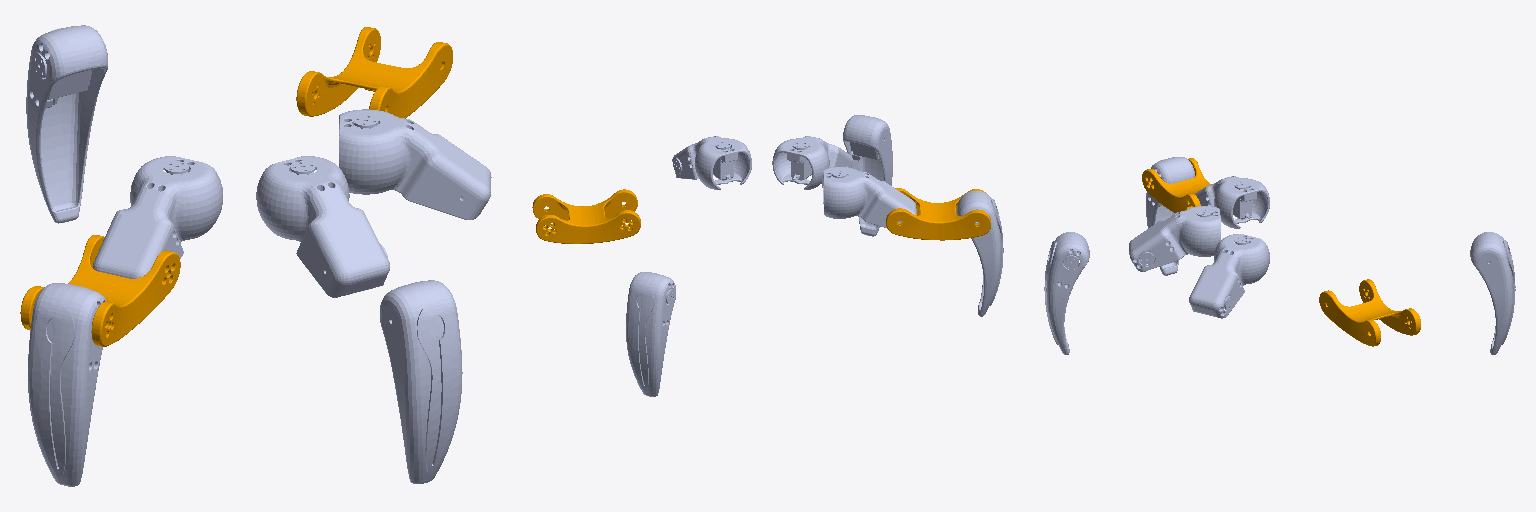
URDF robot description (Spider_Assembly_fineMesh):
<?xml version="1.0" encoding="utf-8"?>
<!-- This URDF was automatically created by SolidWorks to URDF Exporter! Originally created by [author] ([email redacted]) 
     Commit Version: 1.6.0-4-g7f85cfe  Build Version: 1.6.7995.38578
     For more information, please see http://wiki.ros.org/sw_urdf_exporter -->
<robot
  name="Spider_Assembly_fineMesh">
  <link
    name="base">
    <inertial>
      <origin
        xyz="-1.2244E-08 1.2927E-08 -0.021795"
        rpy="0 0 0" />
      <mass
        value="1.5" />
      <inertia
        ixx="0.002302"
        ixy="-4.563E-10"
        ixz="-1.0633E-10"
        iyy="0.002302"
        iyz="3.0883E-10"
        izz="0.0042233" />
    </inertial>
    <visual>
      <origin
        xyz="0 0 0"
        rpy="0 0 0" />
      <geometry>
        <mesh
          filename="package://Spider_Assembly_fineMesh/meshes/base.STL" />
      </geometry>
      <material
        name="">
        <color
          rgba="0.79216 0.81961 0.93333 1" />
      </material>
    </visual>
    <collision>
      <origin
        xyz="0 0 0"
        rpy="0 0 0" />
      <geometry>
        <mesh
          filename="package://Spider_Assembly_fineMesh/meshes/base.STL" />
      </geometry>
    </collision>
  </link>
  <link
    name="coxa1">
    <inertial>
      <origin
        xyz="0.00066313 0.03521 -0.033151"
        rpy="0 0 0" />
      <mass
        value="0.18" />
      <inertia
        ixx="9.5472E-05"
        ixy="-1.9634E-06"
        ixz="8.7252E-07"
        iyy="4.9485E-05"
        iyz="2.1567E-05"
        izz="9.9667E-05" />
    </inertial>
    <visual>
      <origin
        xyz="0 0 0"
        rpy="0 0 0" />
      <geometry>
        <mesh
          filename="package://Spider_Assembly_fineMesh/meshes/coxa1.STL" />
      </geometry>
      <material
        name="">
        <color
          rgba="0.79216 0.81961 0.93333 1" />
      </material>
    </visual>
    <collision>
      <origin
        xyz="0 0 0"
        rpy="0 0 0" />
      <geometry>
        <mesh
          filename="package://Spider_Assembly_fineMesh/meshes/coxa1.STL" />
      </geometry>
    </collision>
  </link>
  <joint
    name="base_to_coxa1"
    type="revolute">
    <origin
      xyz="0 0.1 -0.0229"
      rpy="0 0 0" />
    <parent
      link="base" />
    <child
      link="coxa1" />
    <axis
      xyz="0 0 1" />
    <limit
      lower="-1.0472"
      upper="1.0472"
      effort="10"
      velocity="5" />
  </joint>
  <link
    name="femur1">
    <inertial>
      <origin
        xyz="-0.0009176 -0.049861 -0.0049066"
        rpy="0 0 0" />
      <mass
        value="0.06" />
      <inertia
        ixx="8.6552E-05"
        ixy="-1.0528E-08"
        ixz="2.4849E-07"
        iyy="4.8375E-05"
        iyz="-2.6157E-06"
        izz="0.00012439" />
    </inertial>
    <visual>
      <origin
        xyz="0 0 0"
        rpy="0 0 0" />
      <geometry>
        <mesh
          filename="package://Spider_Assembly_fineMesh/meshes/femur1.STL" />
      </geometry>
      <material
        name="">
        <color
          rgba="1 0.67059 0 1" />
      </material>
    </visual>
    <collision>
      <origin
        xyz="0 0 0"
        rpy="0 0 0" />
      <geometry>
        <mesh
          filename="package://Spider_Assembly_fineMesh/meshes/femur1.STL" />
      </geometry>
    </collision>
  </link>
  <joint
    name="coxa1_to_femur1"
    type="revolute">
    <origin
      xyz="0.00095743 0.076318 -0.055226"
      rpy="0 0 3.129" />
    <parent
      link="coxa1" />
    <child
      link="femur1" />
    <axis
      xyz="1 0 0" />
    <limit
      lower="-1.5708"
      upper="2.0944"
      effort="10"
      velocity="5" />
  </joint>
  <link
    name="tibia1">
    <inertial>
      <origin
        xyz="0.00042461 -0.013369 -0.034865"
        rpy="0 0 0" />
      <mass
        value="0.11" />
      <inertia
        ixx="0.00014528"
        ixy="3.0075E-09"
        ixz="-2.855E-06"
        iyy="0.00014943"
        iyz="-1.5895E-05"
        izz="3.0404E-05" />
    </inertial>
    <visual>
      <origin
        xyz="0 0 0"
        rpy="0 0 0" />
      <geometry>
        <mesh
          filename="package://Spider_Assembly_fineMesh/meshes/tibia1.STL" />
      </geometry>
      <material
        name="">
        <color
          rgba="0.79216 0.81961 0.93333 1" />
      </material>
    </visual>
    <collision>
      <origin
        xyz="0 0 0"
        rpy="0 0 0" />
      <geometry>
        <mesh
          filename="package://Spider_Assembly_fineMesh/meshes/tibia1.STL" />
      </geometry>
    </collision>
  </link>
  <joint
    name="femur1_to_tibia1"
    type="revolute">
    <origin
      xyz="0 -0.099941 -0.0034349"
      rpy="0 0 0" />
    <parent
      link="femur1" />
    <child
      link="tibia1" />
    <axis
      xyz="1 0 0" />
    <limit
      lower="-2.0944"
      upper="1.0472"
      effort="10"
      velocity="5" />
  </joint>
  <link
    name="coxa2">
    <inertial>
      <origin
        xyz="-0.029531 0.019185 -0.033151"
        rpy="0 0 0" />
      <mass
        value="0.18" />
      <inertia
        ixx="6.4112E-05"
        ixy="2.1508E-05"
        ixz="-1.7843E-05"
        iyy="8.0846E-05"
        iyz="1.2147E-05"
        izz="9.9669E-05" />
    </inertial>
    <visual>
      <origin
        xyz="0 0 0"
        rpy="0 0 0" />
      <geometry>
        <mesh
          filename="package://Spider_Assembly_fineMesh/meshes/coxa2.STL" />
      </geometry>
      <material
        name="">
        <color
          rgba="0.79216 0.81961 0.93333 1" />
      </material>
    </visual>
    <collision>
      <origin
        xyz="0 0 0"
        rpy="0 0 0" />
      <geometry>
        <mesh
          filename="package://Spider_Assembly_fineMesh/meshes/coxa2.STL" />
      </geometry>
    </collision>
  </link>
  <joint
    name="base_to_coxa2"
    type="revolute">
    <origin
      xyz="-0.086603 0.050001 -0.0229"
      rpy="0 0 0" />
    <parent
      link="base" />
    <child
      link="coxa2" />
    <axis
      xyz="0 0 1" />
    <limit
      lower="-1.0472"
      upper="1.0472"
      effort="10"
      velocity="5" />
  </joint>
  <link
    name="femur2">
    <inertial>
      <origin
        xyz="-0.0009176 -0.049861 -0.0049067"
        rpy="0 0 0" />
      <mass
        value="0.06" />
      <inertia
        ixx="8.6552E-05"
        ixy="-1.0306E-08"
        ixz="2.485E-07"
        iyy="4.8375E-05"
        iyz="-2.6157E-06"
        izz="0.00012439" />
    </inertial>
    <visual>
      <origin
        xyz="0 0 0"
        rpy="0 0 0" />
      <geometry>
        <mesh
          filename="package://Spider_Assembly_fineMesh/meshes/femur2.STL" />
      </geometry>
      <material
        name="">
        <color
          rgba="1 0.67059 0 1" />
      </material>
    </visual>
    <collision>
      <origin
        xyz="0 0 0"
        rpy="0 0 0" />
      <geometry>
        <mesh
          filename="package://Spider_Assembly_fineMesh/meshes/femur2.STL" />
      </geometry>
    </collision>
  </link>
  <joint
    name="coxa2_to_femur2"
    type="revolute">
    <origin
      xyz="-0.064264 0.041176 -0.055226"
      rpy="0 0 -2.1406" />
    <parent
      link="coxa2" />
    <child
      link="femur2" />
    <axis
      xyz="1 0 0" />
    <limit
      lower="-1.5708"
      upper="2.0944"
      effort="10"
      velocity="5" />
  </joint>
  <link
    name="tibia2">
    <inertial>
      <origin
        xyz="0.00042461 -0.013369 -0.034865"
        rpy="0 0 0" />
      <mass
        value="0.11" />
      <inertia
        ixx="0.00014528"
        ixy="3.2722E-09"
        ixz="-2.856E-06"
        iyy="0.00014944"
        iyz="-1.5895E-05"
        izz="3.0403E-05" />
    </inertial>
    <visual>
      <origin
        xyz="0 0 0"
        rpy="0 0 0" />
      <geometry>
        <mesh
          filename="package://Spider_Assembly_fineMesh/meshes/tibia2.STL" />
      </geometry>
      <material
        name="">
        <color
          rgba="0.79216 0.81961 0.93333 1" />
      </material>
    </visual>
    <collision>
      <origin
        xyz="0 0 0"
        rpy="0 0 0" />
      <geometry>
        <mesh
          filename="package://Spider_Assembly_fineMesh/meshes/tibia2.STL" />
      </geometry>
    </collision>
  </link>
  <joint
    name="femur2_to_tibia2"
    type="revolute">
    <origin
      xyz="0 -0.099941 -0.0034349"
      rpy="0 0 0" />
    <parent
      link="femur2" />
    <child
      link="tibia2" />
    <axis
      xyz="1 0 0" />
    <limit
      lower="-2.0944"
      upper="1.0472"
      effort="10"
      velocity="5" />
  </joint>
  <link
    name="coxa3">
    <inertial>
      <origin
        xyz="-0.029972 -0.01849 -0.033151"
        rpy="0 0 0" />
      <mass
        value="0.18" />
      <inertia
        ixx="6.116E-05"
        ixy="-2.011E-05"
        ixz="-1.8614E-05"
        iyy="8.3807E-05"
        iyz="-1.0935E-05"
        izz="9.9672E-05" />
    </inertial>
    <visual>
      <origin
        xyz="0 0 0"
        rpy="0 0 0" />
      <geometry>
        <mesh
          filename="package://Spider_Assembly_fineMesh/meshes/coxa3.STL" />
      </geometry>
      <material
        name="">
        <color
          rgba="0.79216 0.81961 0.93333 1" />
      </material>
    </visual>
    <collision>
      <origin
        xyz="0 0 0"
        rpy="0 0 0" />
      <geometry>
        <mesh
          filename="package://Spider_Assembly_fineMesh/meshes/coxa3.STL" />
      </geometry>
    </collision>
  </link>
  <joint
    name="base_to_coxa3"
    type="revolute">
    <origin
      xyz="-0.0866040403784443 -0.0499991339745954 -0.0228999999999395"
      rpy="0 0 0" />
    <parent
      link="base" />
    <child
      link="coxa3" />
    <axis
      xyz="0 0 1" />
    <limit
      lower="-1.0472"
      upper="1.0472"
      effort="10"
      velocity="5" />
  </joint>
  <link
    name="femur3">
    <inertial>
      <origin
        xyz="-0.00091762 -0.049861 -0.0049049"
        rpy="0 0 0" />
      <mass
        value="0.06" />
      <inertia
        ixx="8.6552E-05"
        ixy="-1.0422E-08"
        ixz="2.4858E-07"
        iyy="4.8375E-05"
        iyz="-2.6155E-06"
        izz="0.00012439" />
    </inertial>
    <visual>
      <origin
        xyz="0 0 0"
        rpy="0 0 0" />
      <geometry>
        <mesh
          filename="package://Spider_Assembly_fineMesh/meshes/femur3.STL" />
      </geometry>
      <material
        name="">
        <color
          rgba="1 0.67059 0 1" />
      </material>
    </visual>
    <collision>
      <origin
        xyz="0 0 0"
        rpy="0 0 0" />
      <geometry>
        <mesh
          filename="package://Spider_Assembly_fineMesh/meshes/femur3.STL" />
      </geometry>
    </collision>
  </link>
  <joint
    name="coxa3_to_femur3"
    type="revolute">
    <origin
      xyz="-0.0647043722150724 -0.0404800288990548 -0.0552258257090417"
      rpy="0 0 -1.01175485233089" />
    <parent
      link="coxa3" />
    <child
      link="femur3" />
    <axis
      xyz="1 0 0" />
    <limit
      lower="-1.5708"
      upper="2.0944"
      effort="10"
      velocity="5" />
  </joint>
  <link
    name="tibia3">
    <inertial>
      <origin
        xyz="0.0004246 -0.013369 -0.034865"
        rpy="0 0 0" />
      <mass
        value="0.11" />
      <inertia
        ixx="0.00014528"
        ixy="2.9252E-09"
        ixz="-2.8551E-06"
        iyy="0.00014943"
        iyz="-1.5895E-05"
        izz="3.0403E-05" />
    </inertial>
    <visual>
      <origin
        xyz="0 0 0"
        rpy="0 0 0" />
      <geometry>
        <mesh
          filename="package://Spider_Assembly_fineMesh/meshes/tibia3.STL" />
      </geometry>
      <material
        name="">
        <color
          rgba="0.79216 0.81961 0.93333 1" />
      </material>
    </visual>
    <collision>
      <origin
        xyz="0 0 0"
        rpy="0 0 0" />
      <geometry>
        <mesh
          filename="package://Spider_Assembly_fineMesh/meshes/tibia3.STL" />
      </geometry>
    </collision>
  </link>
  <joint
    name="femur3_to_tibia3"
    type="revolute">
    <origin
      xyz="0 -0.099941 -0.0034349"
      rpy="0 0 0" />
    <parent
      link="femur3" />
    <child
      link="tibia3" />
    <axis
      xyz="1 0 0" />
    <limit
      lower="-2.0944"
      upper="1.0472"
      effort="10"
      velocity="5" />
  </joint>
  <link
    name="coxa4">
    <inertial>
      <origin
        xyz="0.00088599 -0.035205 -0.033151"
        rpy="0 0 0" />
      <mass
        value="0.18" />
      <inertia
        ixx="9.5561E-05"
        ixy="6.7233E-08"
        ixz="7.8148E-08"
        iyy="4.9405E-05"
        iyz="-2.1588E-05"
        izz="9.967E-05" />
    </inertial>
    <visual>
      <origin
        xyz="0 0 0"
        rpy="0 0 0" />
      <geometry>
        <mesh
          filename="package://Spider_Assembly_fineMesh/meshes/coxa4.STL" />
      </geometry>
      <material
        name="">
        <color
          rgba="0.79216 0.81961 0.93333 1" />
      </material>
    </visual>
    <collision>
      <origin
        xyz="0 0 0"
        rpy="0 0 0" />
      <geometry>
        <mesh
          filename="package://Spider_Assembly_fineMesh/meshes/coxa4.STL" />
      </geometry>
    </collision>
  </link>
  <joint
    name="base_to_coxa4"
    type="revolute">
    <origin
      xyz="0 -0.1 -0.0228999999999395"
      rpy="0 0 0" />
    <parent
      link="base" />
    <child
      link="coxa4" />
    <axis
      xyz="0 0 1" />
    <limit
      lower="-1.0472"
      upper="1.0472"
      effort="10"
      velocity="5" />
  </joint>
  <link
    name="femur4">
    <inertial>
      <origin
        xyz="0.00065147 -0.049865 -0.0049066"
        rpy="0 0 0" />
      <mass
        value="0.06" />
      <inertia
        ixx="8.6515E-05"
        ixy="1.1915E-06"
        ixz="3.3076E-07"
        iyy="4.8412E-05"
        iyz="-2.6066E-06"
        izz="0.00012439" />
    </inertial>
    <visual>
      <origin
        xyz="0 0 0"
        rpy="0 0 0" />
      <geometry>
        <mesh
          filename="package://Spider_Assembly_fineMesh/meshes/femur4.STL" />
      </geometry>
      <material
        name="">
        <color
          rgba="1 0.67059 0 1" />
      </material>
    </visual>
    <collision>
      <origin
        xyz="0 0 0"
        rpy="0 0 0" />
      <geometry>
        <mesh
          filename="package://Spider_Assembly_fineMesh/meshes/femur4.STL" />
      </geometry>
    </collision>
  </link>
  <joint
    name="coxa4_to_femur4"
    type="revolute">
    <origin
      xyz="0.00240418464234264 -0.0762856395586871 -0.0552258257090417"
      rpy="0 0 0" />
    <parent
      link="coxa4" />
    <child
      link="femur4" />
    <axis
      xyz="0.999503754376516 0.0314999204324345 0" />
    <limit
      lower="-1.5708"
      upper="2.0944"
      effort="10"
      velocity="5" />
  </joint>
  <link
    name="tibia4">
    <inertial>
      <origin
        xyz="0.00042261 -0.013369 -0.034865"
        rpy="0 0 0" />
      <mass
        value="0.11" />
      <inertia
        ixx="0.00014528"
        ixy="3.0099E-09"
        ixz="-2.855E-06"
        iyy="0.00014943"
        iyz="-1.5895E-05"
        izz="3.0404E-05" />
    </inertial>
    <visual>
      <origin
        xyz="0 0 0"
        rpy="0 0 0" />
      <geometry>
        <mesh
          filename="package://Spider_Assembly_fineMesh/meshes/tibia4.STL" />
      </geometry>
      <material
        name="">
        <color
          rgba="0.79216 0.81961 0.93333 1" />
      </material>
    </visual>
    <collision>
      <origin
        xyz="0 0 0"
        rpy="0 0 0" />
      <geometry>
        <mesh
          filename="package://Spider_Assembly_fineMesh/meshes/tibia4.STL" />
      </geometry>
    </collision>
  </link>
  <joint
    name="femur4_to_tibia4"
    type="revolute">
    <origin
      xyz="0.0031481 -0.099891 -0.0034349"
      rpy="0 0 0.031505" />
    <parent
      link="femur4" />
    <child
      link="tibia4" />
    <axis
      xyz="1 0 0" />
    <limit
      lower="-2.0944"
      upper="1.0472"
      effort="10"
      velocity="5" />
  </joint>
  <link
    name="coxa5">
    <inertial>
      <origin
        xyz="0.030128 -0.018234 -0.033151"
        rpy="0 0 0" />
      <mass
        value="0.18" />
      <inertia
        ixx="6.276E-05"
        ixy="2.0931E-05"
        ixz="1.8221E-05"
        iyy="8.2199E-05"
        iyz="-1.1573E-05"
        izz="9.9669E-05" />
    </inertial>
    <visual>
      <origin
        xyz="0 0 0"
        rpy="0 0 0" />
      <geometry>
        <mesh
          filename="package://Spider_Assembly_fineMesh/meshes/coxa5.STL" />
      </geometry>
      <material
        name="">
        <color
          rgba="0.79216 0.81961 0.93333 1" />
      </material>
    </visual>
    <collision>
      <origin
        xyz="0 0 0"
        rpy="0 0 0" />
      <geometry>
        <mesh
          filename="package://Spider_Assembly_fineMesh/meshes/coxa5.STL" />
      </geometry>
    </collision>
  </link>
  <joint
    name="base_to_coxa5"
    type="revolute">
    <origin
      xyz="0.0866010403784438 -0.0500008660254042 -0.0228999999999395"
      rpy="0 0 0" />
    <parent
      link="base" />
    <child
      link="coxa5" />
    <axis
      xyz="0 0 1" />
    <limit
      lower="-1.0472"
      upper="1.0472"
      effort="10"
      velocity="5" />
  </joint>
  <link
    name="femur5">
    <inertial>
      <origin
        xyz="-0.0009176 -0.049861 -0.0049067"
        rpy="0 0 0" />
      <mass
        value="0.06" />
      <inertia
        ixx="8.6552E-05"
        ixy="-1.0306E-08"
        ixz="2.485E-07"
        iyy="4.8375E-05"
        iyz="-2.6157E-06"
        izz="0.00012439" />
    </inertial>
    <visual>
      <origin
        xyz="0 0 0"
        rpy="0 0 0" />
      <geometry>
        <mesh
          filename="package://Spider_Assembly_fineMesh/meshes/femur5.STL" />
      </geometry>
      <material
        name="">
        <color
          rgba="1 0.67059 0 1" />
      </material>
    </visual>
    <collision>
      <origin
        xyz="0 0 0"
        rpy="0 0 0" />
      <geometry>
        <mesh
          filename="package://Spider_Assembly_fineMesh/meshes/femur5.STL" />
      </geometry>
    </collision>
  </link>
  <joint
    name="coxa5_to_femur5"
    type="revolute">
    <origin
      xyz="0.0655430603260938 -0.0391074899028941 -0.0552258257090417"
      rpy="0 0 1.03282994251623" />
    <parent
      link="coxa5" />
    <child
      link="femur5" />
    <axis
      xyz="1 0 0" />
    <limit
      lower="-1.5708"
      upper="2.0944"
      effort="10"
      velocity="5" />
  </joint>
  <link
    name="tibia5">
    <inertial>
      <origin
        xyz="0.00042461 -0.013369 -0.034865"
        rpy="0 0 0" />
      <mass
        value="0.11" />
      <inertia
        ixx="0.00014528"
        ixy="3.2734E-09"
        ixz="-2.856E-06"
        iyy="0.00014944"
        iyz="-1.5895E-05"
        izz="3.0403E-05" />
    </inertial>
    <visual>
      <origin
        xyz="0 0 0"
        rpy="0 0 0" />
      <geometry>
        <mesh
          filename="package://Spider_Assembly_fineMesh/meshes/tibia5.STL" />
      </geometry>
      <material
        name="">
        <color
          rgba="0.79216 0.81961 0.93333 1" />
      </material>
    </visual>
    <collision>
      <origin
        xyz="0 0 0"
        rpy="0 0 0" />
      <geometry>
        <mesh
          filename="package://Spider_Assembly_fineMesh/meshes/tibia5.STL" />
      </geometry>
    </collision>
  </link>
  <joint
    name="femur5_to_tibia5"
    type="revolute">
    <origin
      xyz="0 -0.099941 -0.0034349"
      rpy="0 0 0" />
    <parent
      link="femur5" />
    <child
      link="tibia5" />
    <axis
      xyz="1 0 0" />
    <limit
      lower="-2.0944"
      upper="1.0472"
      effort="10"
      velocity="5" />
  </joint>
  <link
    name="coxa6">
    <inertial>
      <origin
        xyz="0.029393 0.019396 -0.033151"
        rpy="0 0 0" />
      <mass
        value="0.18" />
      <inertia
        ixx="6.2409E-05"
        ixy="-2.0764E-05"
        ixz="1.8271E-05"
        iyy="8.2559E-05"
        iyz="1.1498E-05"
        izz="9.9672E-05" />
    </inertial>
    <visual>
      <origin
        xyz="0 0 0"
        rpy="0 0 0" />
      <geometry>
        <mesh
          filename="package://Spider_Assembly_fineMesh/meshes/coxa6.STL" />
      </geometry>
      <material
        name="">
        <color
          rgba="0.79216 0.81961 0.93333 1" />
      </material>
    </visual>
    <collision>
      <origin
        xyz="0 0 0"
        rpy="0 0 0" />
      <geometry>
        <mesh
          filename="package://Spider_Assembly_fineMesh/meshes/coxa6.STL" />
      </geometry>
    </collision>
  </link>
  <joint
    name="base_to_coxa6"
    type="revolute">
    <origin
      xyz="0.0866020403784441 0.0499991339745961 -0.0228999999999395"
      rpy="0 0 0" />
    <parent
      link="base" />
    <child
      link="coxa6" />
    <axis
      xyz="0 0 1" />
    <limit
      lower="-1.0472"
      upper="1.0472"
      effort="10"
      velocity="5" />
  </joint>
  <link
    name="femur6">
    <inertial>
      <origin
        xyz="-0.00091762 -0.049861 -0.0049049"
        rpy="0 0 0" />
      <mass
        value="0.06" />
      <inertia
        ixx="8.6552E-05"
        ixy="-1.0422E-08"
        ixz="2.4858E-07"
        iyy="4.8375E-05"
        iyz="-2.6155E-06"
        izz="0.00012439" />
    </inertial>
    <visual>
      <origin
        xyz="0 0 0"
        rpy="0 0 0" />
      <geometry>
        <mesh
          filename="package://Spider_Assembly_fineMesh/meshes/femur6.STL" />
      </geometry>
      <material
        name="">
        <color
          rgba="1 0.67059 0 1" />
      </material>
    </visual>
    <collision>
      <origin
        xyz="0 0 0"
        rpy="0 0 0" />
      <geometry>
        <mesh
          filename="package://Spider_Assembly_fineMesh/meshes/femur6.STL" />
      </geometry>
    </collision>
  </link>
  <joint
    name="coxa6_to_femur6"
    type="revolute">
    <origin
      xyz="0.0634385182588936 0.0424363396693324 -0.0552258257090417"
      rpy="0 0 2.16036869998313" />
    <parent
      link="coxa6" />
    <child
      link="femur6" />
    <axis
      xyz="1 0 0" />
    <limit
      lower="-1.5708"
      upper="2.0944"
      effort="10"
      velocity="5" />
  </joint>
  <link
    name="tibia6">
    <inertial>
      <origin
        xyz="0.0004246 -0.013369 -0.034865"
        rpy="0 0 0" />
      <mass
        value="0.11" />
      <inertia
        ixx="0.00014528"
        ixy="2.9283E-09"
        ixz="-2.8551E-06"
        iyy="0.00014943"
        iyz="-1.5895E-05"
        izz="3.0403E-05" />
    </inertial>
    <visual>
      <origin
        xyz="0 0 0"
        rpy="0 0 0" />
      <geometry>
        <mesh
          filename="package://Spider_Assembly_fineMesh/meshes/tibia6.STL" />
      </geometry>
      <material
        name="">
        <color
          rgba="0.79216 0.81961 0.93333 1" />
      </material>
    </visual>
    <collision>
      <origin
        xyz="0 0 0"
        rpy="0 0 0" />
      <geometry>
        <mesh
          filename="package://Spider_Assembly_fineMesh/meshes/tibia6.STL" />
      </geometry>
    </collision>
  </link>
  <joint
    name="femur6_to_tibia6"
    type="revolute">
    <origin
      xyz="0 -0.099941 -0.0034349"
      rpy="0 0 0" />
    <parent
      link="femur6" />
    <child
      link="tibia6" />
    <axis
      xyz="1 0 0" />
    <limit
      lower="-2.0944"
      upper="1.0472"
      effort="10"
      velocity="5" />
  </joint>
</robot>

--- Facts derived from the render (not from the file) ---
Views: 3 orthographic renders of the robot side by side, from view 1: azimuth 30°, elevation 25°; view 2: azimuth 150°, elevation 25°; view 3: azimuth 270°, elevation 25°.
Robot: Spider_Assembly_fineMesh — 19 links, 18 joints (18 revolute); root link base; default pose: every joint at zero.
Visible links, largest first — view 1: tibia4, tibia3, coxa4, tibia1, coxa5, coxa3, femur6, femur3; view 2: tibia1, femur6, coxa3, femur3, coxa5, tibia4, coxa4, tibia3; view 3: coxa5, coxa4, femur6, tibia4, tibia1, coxa3, femur3, tibia3.
Link boxes in pixels (x1,y1,x2,y2): tibia4: (380,280,462,483); tibia3: (28,283,105,486); coxa4: (256,156,389,297); tibia1: (26,25,107,223); coxa5: (339,109,491,219); coxa3: (92,156,222,278); femur6: (296,27,452,118); femur3: (20,235,180,346); tibia1: (626,272,675,396); femur6: (532,189,640,243); coxa3: (822,167,916,227); femur3: (886,188,990,240); coxa5: (672,136,751,189); tibia4: (843,115,892,236); coxa4: (772,136,852,189); tibia3: (957,190,1003,316); coxa5: (1189,234,1269,318); coxa4: (1129,206,1220,271); femur6: (1319,279,1420,346); tibia4: (1044,232,1089,354); tibia1: (1470,232,1515,354); coxa3: (1195,176,1269,228); femur3: (1142,158,1210,212); tibia3: (1146,157,1194,275).
Size in the robot's own frame: 0.5418 by 0.6221 by 0.2035 metres.
8 mesh visuals loaded from 19 distinct referenced files (8 binary STL); not drawn: 11 (reference not matched to a file when rendering).